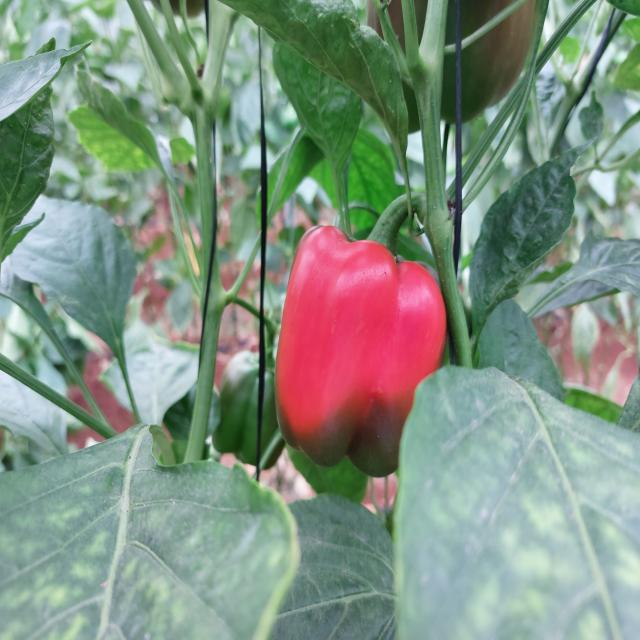Red-Ready-to-Harvest: (269, 212, 453, 486)
